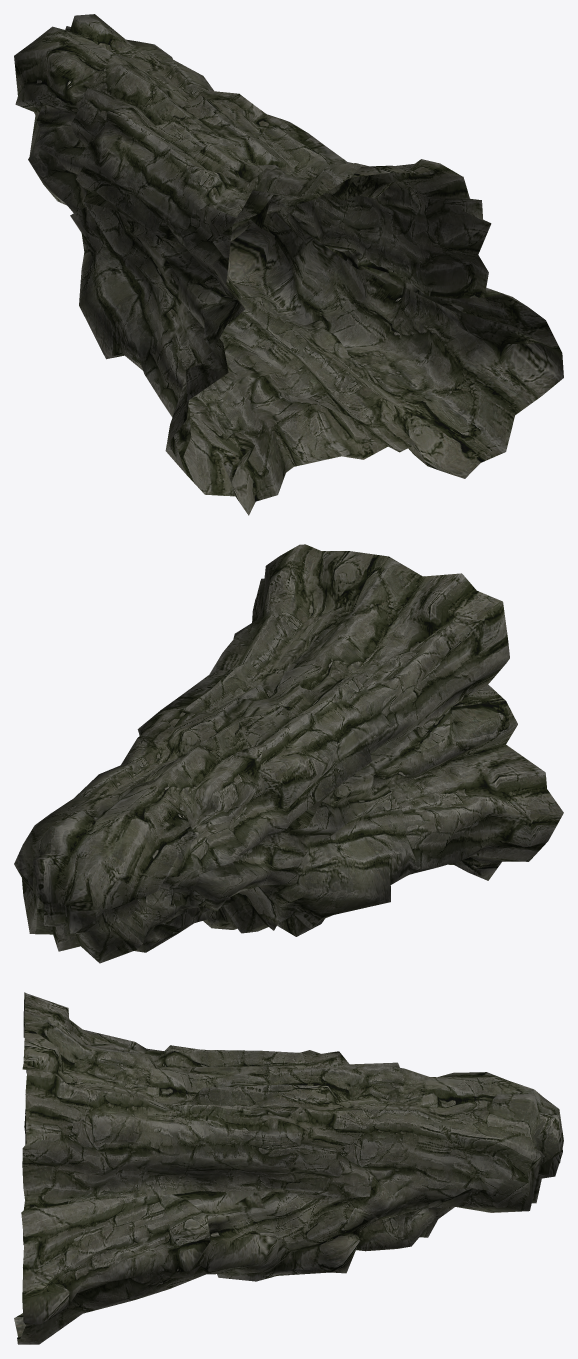
Rendered from TI_Cliff_02_g.fbx.
3 renders of one model, top to bottom at view 1: azimuth 30°, elevation 25°; view 2: azimuth 150°, elevation 25°; view 3: azimuth 270°, elevation 25°, orthographic. The views are drawn at different scales.
Visible parts, largest first — view 1: TI_Cliff_02_g; view 2: TI_Cliff_02_g; view 3: TI_Cliff_02_g.
Part boxes in pixels (box(x1,y1,x2,y2)): TI_Cliff_02_g: box(14, 14, 563, 515); TI_Cliff_02_g: box(14, 544, 563, 963); TI_Cliff_02_g: box(14, 992, 563, 1344).
Bounding box in the file's own units: 9.87 × 7.77 × 14.16.
